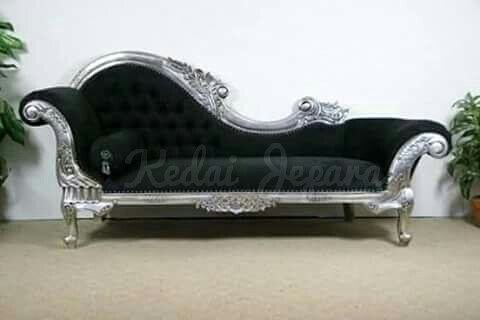Carving Chair: (37, 65, 438, 248)
